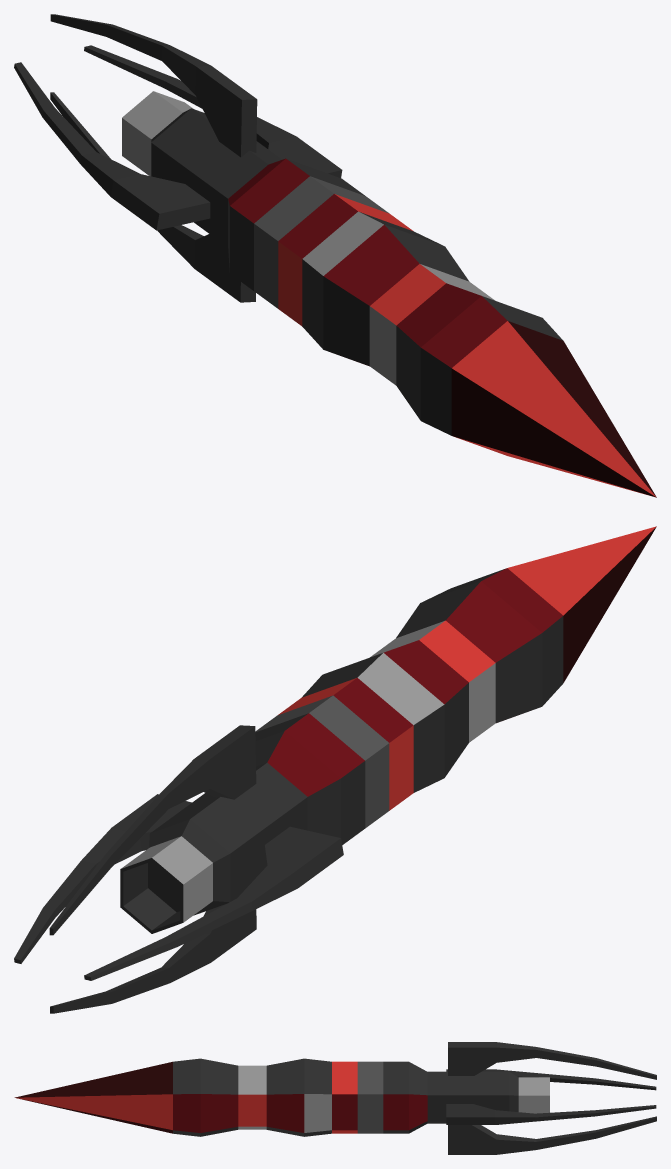
File: rocket 1.fbx
3 renders of one model, top to bottom at view 1: azimuth 30°, elevation 25°; view 2: azimuth 150°, elevation 25°; view 3: azimuth 270°, elevation 25°, orthographic. The views are drawn at different scales.
Parts seen in each view (by area): view 1: Cylinder; view 2: Cylinder; view 3: Cylinder.
Boxes of the visible parts, bbox=[...] form: Cylinder: bbox=[14, 14, 656, 497]; Cylinder: bbox=[14, 526, 656, 1013]; Cylinder: bbox=[14, 1042, 656, 1154].
Size of the model in its own units: 144 by 152 by 809.
